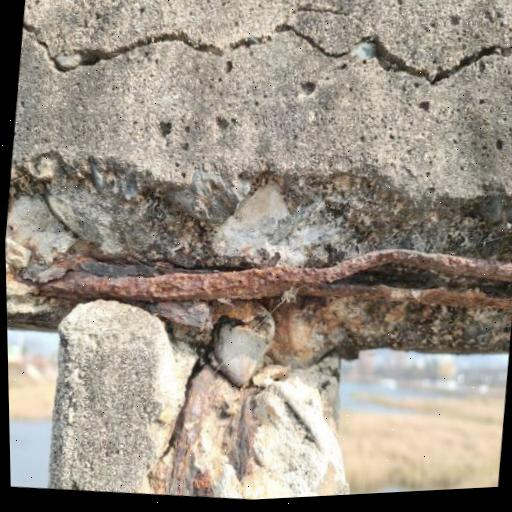exposed_rebar: (40, 249, 512, 311)
spalling: (5, 151, 512, 365)
